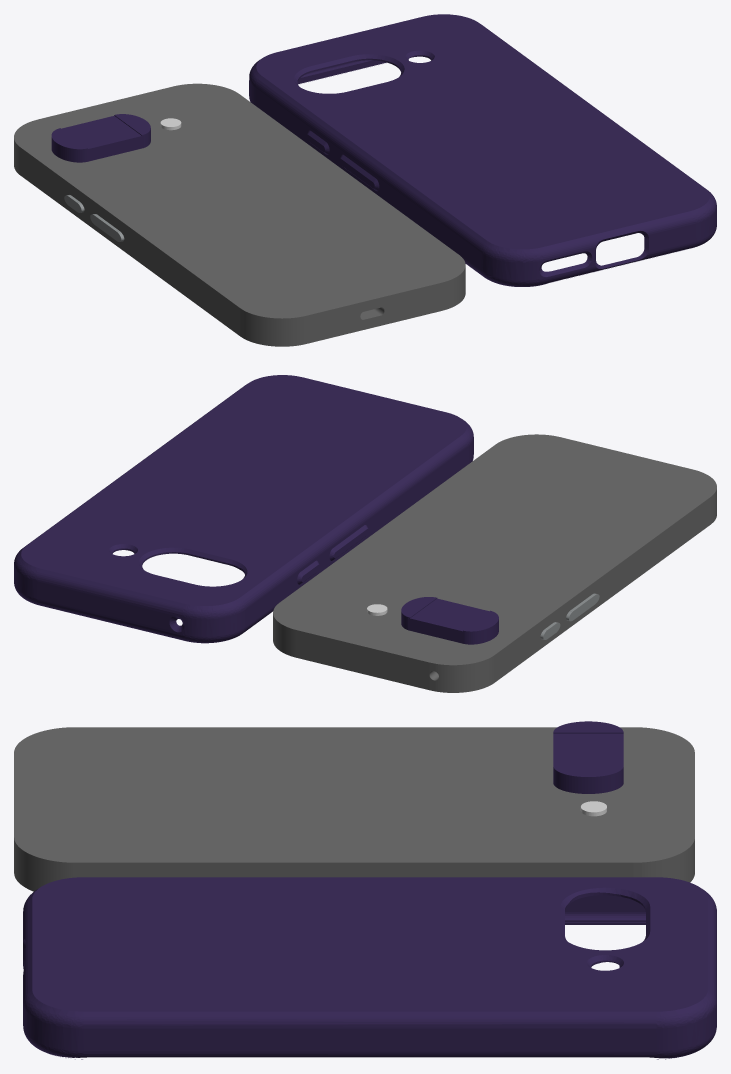
The model's file is Google Pixel.glb.
3 renders of one model, top to bottom at view 1: azimuth 30°, elevation 25°; view 2: azimuth 150°, elevation 25°; view 3: azimuth 270°, elevation 25°, orthographic. The views are drawn at different scales.
Parts seen in each view (by area): view 1: Mesh_Mesh_head_geo.001_lambert2SG.001; view 2: Mesh_Mesh_head_geo.001_lambert2SG.001; view 3: Mesh_Mesh_head_geo.001_lambert2SG.001.
Boxes of the visible parts, x1,y1,x2,y2 form: Mesh_Mesh_head_geo.001_lambert2SG.001: (14, 14, 716, 346); Mesh_Mesh_head_geo.001_lambert2SG.001: (14, 375, 716, 692); Mesh_Mesh_head_geo.001_lambert2SG.001: (14, 721, 716, 1059).
Bounding box in the file's own units: 0.159 × 0.015 × 0.16.
